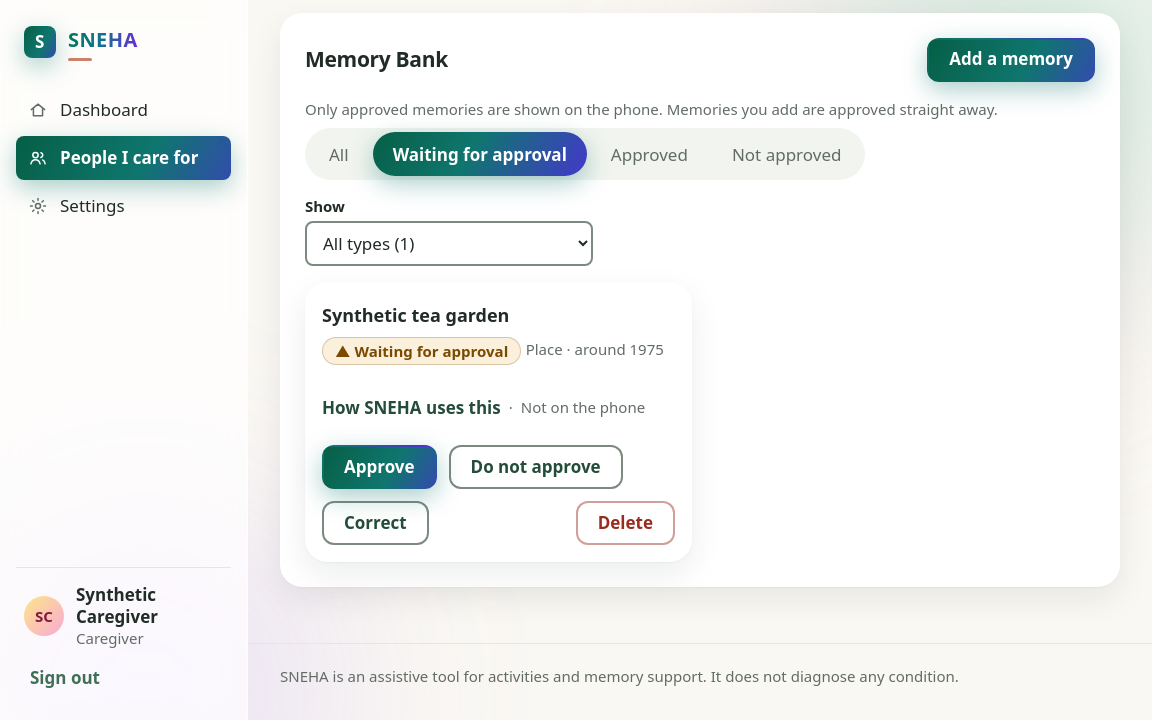
Test: Memory Bank approval › approves a pending memory with its current version
(page scrolled)
What coordinates should you click on to do the following:
click the button "Approve"
I would click on:
 (379, 467)
Its box is [322,445,436,489].
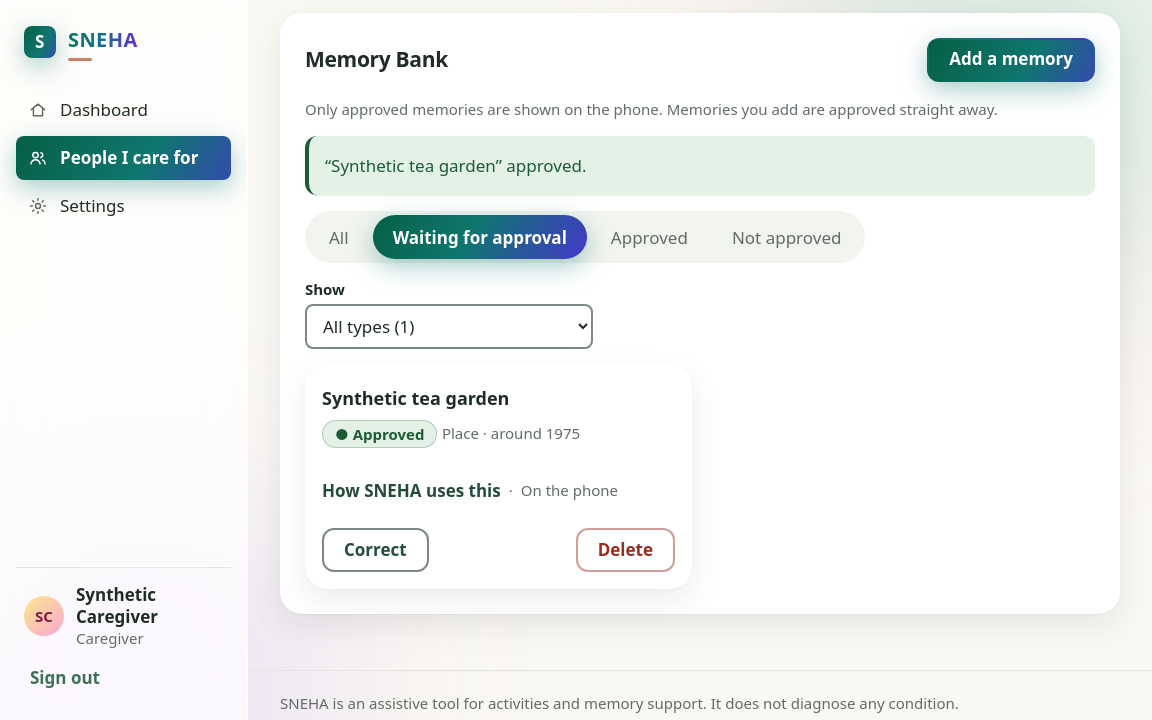
expect the text "“Synthetic tea garden” approved." is shown: met, box [325,154,586,177]
